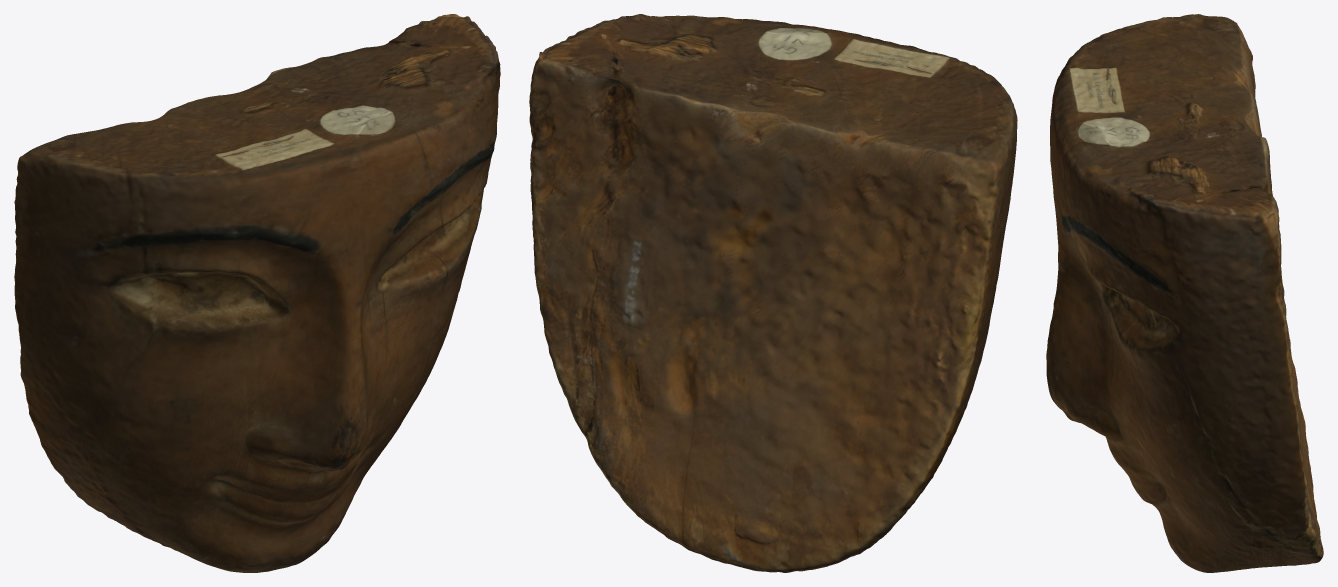
Rendered from gayer.obj.
The picture shows the model from 3 angles, left to right: view 1: azimuth 30°, elevation 25°; view 2: azimuth 150°, elevation 25°; view 3: azimuth 270°, elevation 25°; orthographic projection. The views are drawn at different scales.
Size of the model in its own units: 3.48 by 3.39 by 1.89.
Materials: 1 (1 with a texture image).
